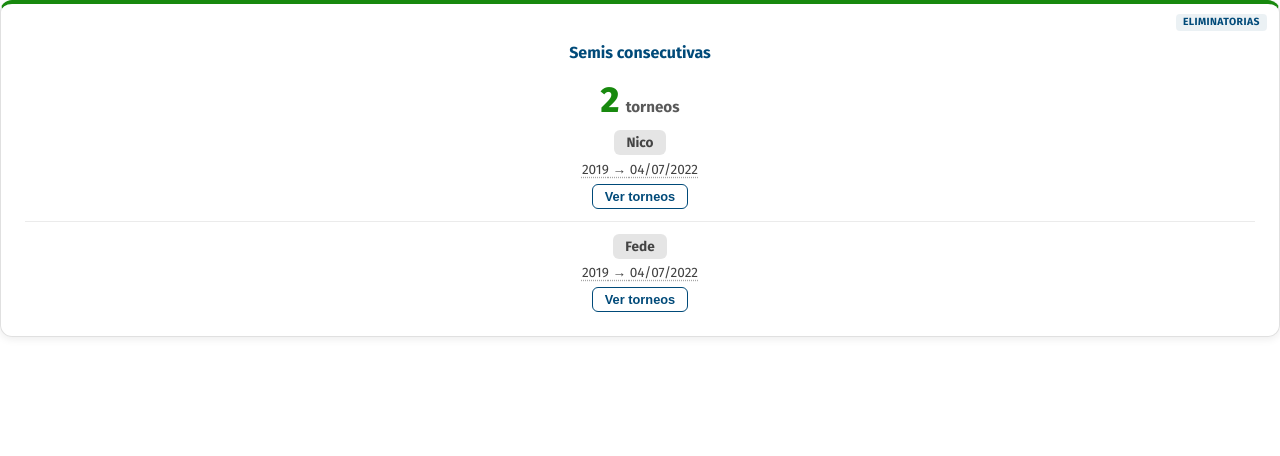
Test: torneos con empate: toggle "Ver torneos"
Click the button "Ver torneos" below "Nico".
click(640, 196)  # box [592,184,688,208]
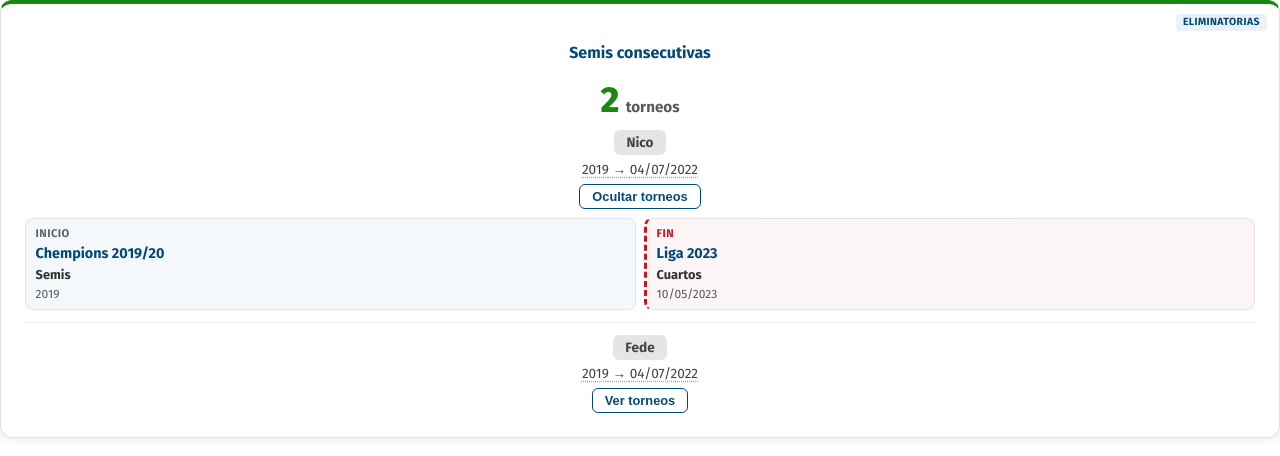
Result: the button "Ocultar torneos" is shown at [579,184,701,208]
